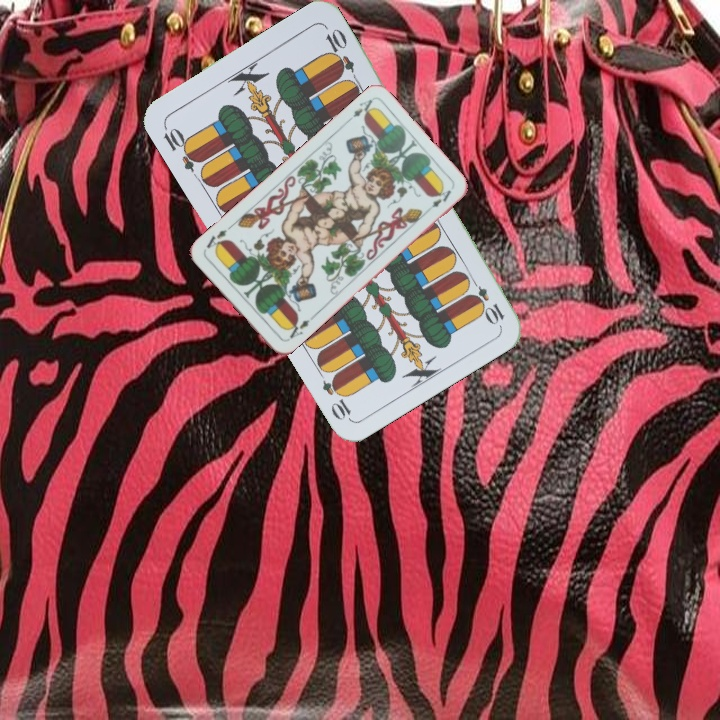E10: (159, 121, 205, 174), (464, 273, 507, 327)
EA: (343, 95, 377, 126), (283, 312, 316, 343)
